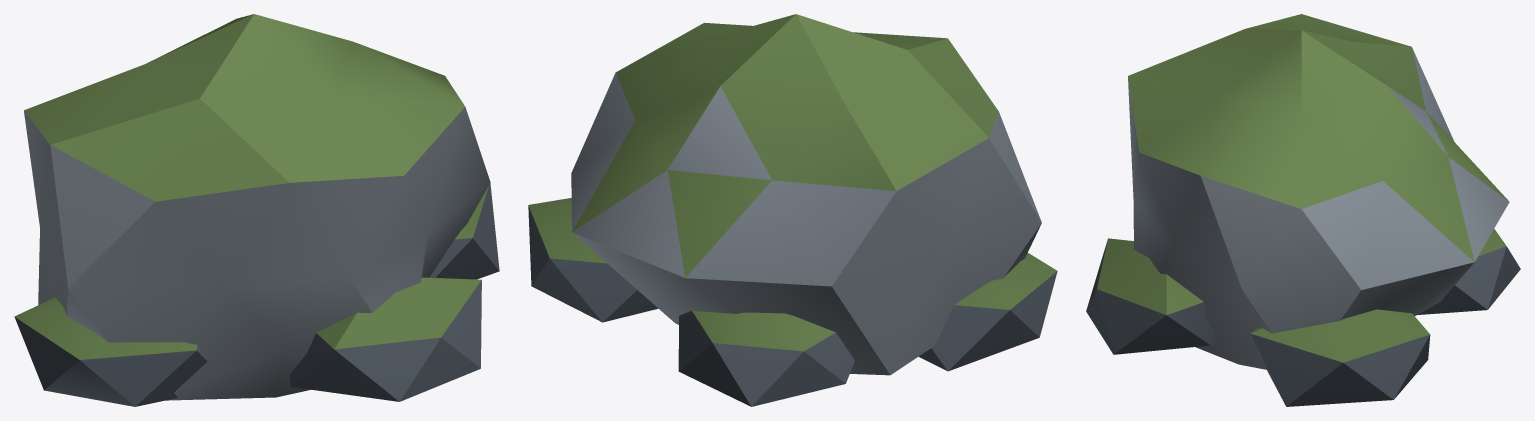
Rendered from rock_b.glb.
3 renders of one model, left to right at view 1: azimuth 30°, elevation 25°; view 2: azimuth 150°, elevation 25°; view 3: azimuth 270°, elevation 25°, orthographic. The views are drawn at different scales.
Visible parts, largest first — view 1: rock_b; view 2: rock_b; view 3: rock_b.
Boxes of the visible parts, x1,y1,x2,y2 form: rock_b: [14, 14, 499, 406]; rock_b: [528, 14, 1057, 406]; rock_b: [1086, 14, 1520, 406].
Bounding box in the file's own units: 2.12 × 1.35 × 1.82.
